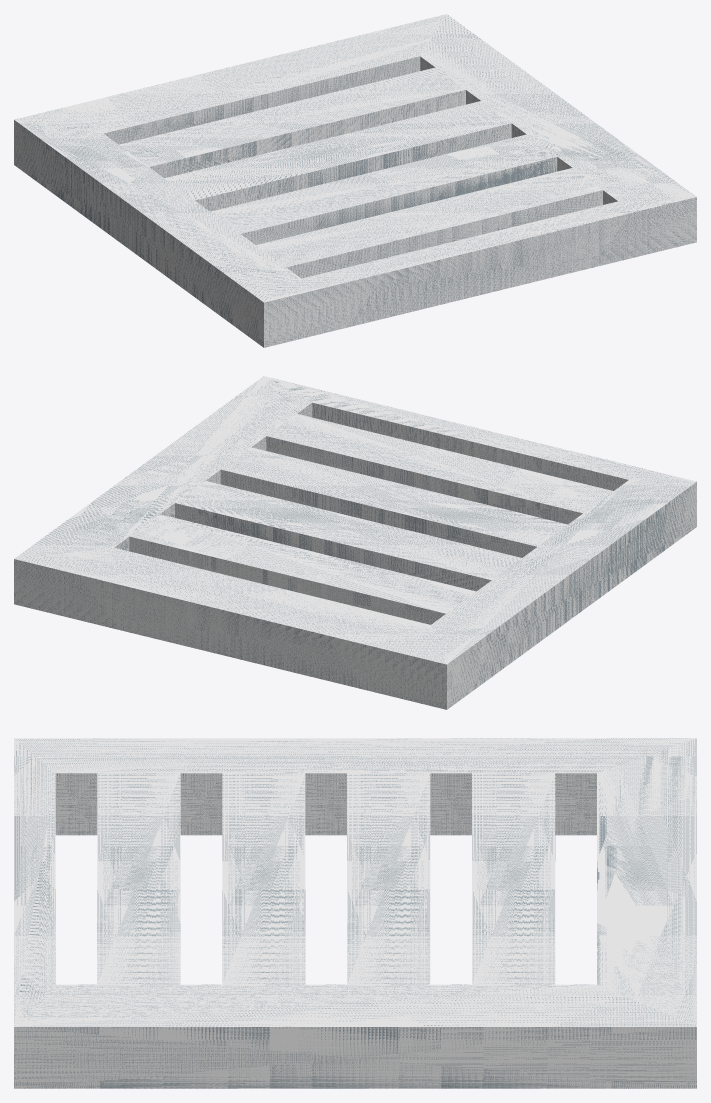
3 renders of one model, top to bottom at view 1: azimuth 30°, elevation 25°; view 2: azimuth 150°, elevation 25°; view 3: azimuth 270°, elevation 25°, orthographic. The views are drawn at different scales.
Parts seen in each view (by area): view 1: Model; view 2: Model; view 3: Model.
Part boxes in pixels (bbox=[...]): Model: bbox=[14, 14, 696, 347]; Model: bbox=[14, 376, 696, 709]; Model: bbox=[14, 738, 696, 1088].
Bounding box in the file's own units: 5 × 0.5 × 5.
